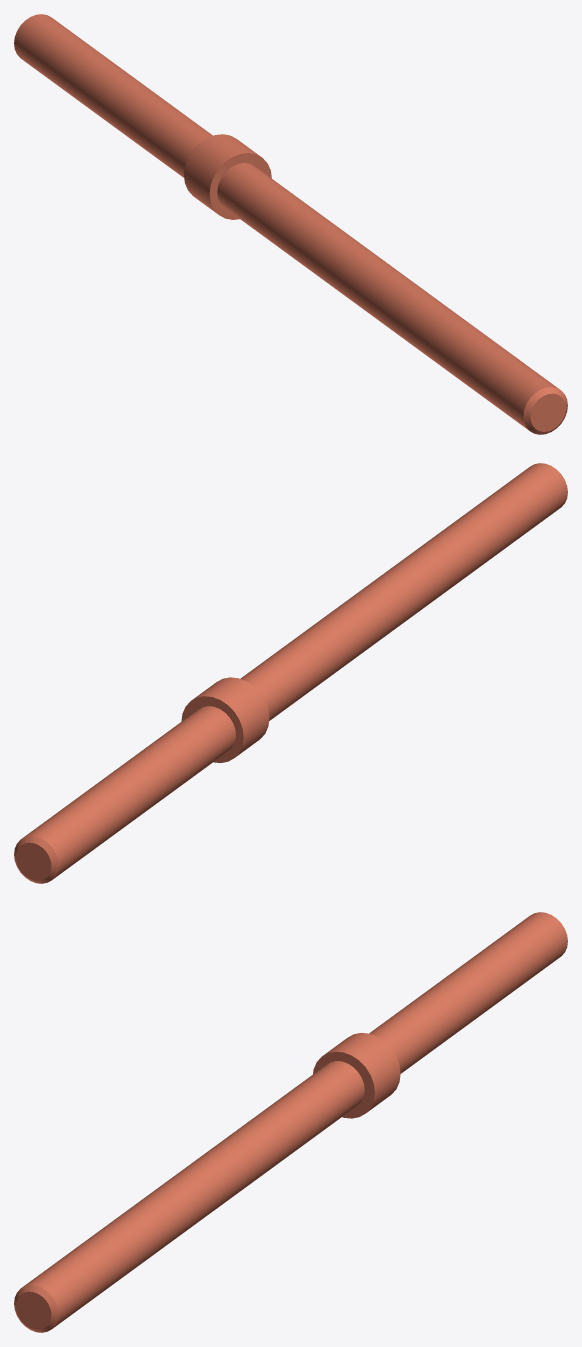
File: SHAFT.glb
3 renders of one model, top to bottom at view 1: azimuth 30°, elevation 25°; view 2: azimuth 150°, elevation 25°; view 3: azimuth 330°, elevation 25°, orthographic.
Parts seen in each view (by area): view 1: SHAFT; view 2: SHAFT; view 3: SHAFT.
Part boxes in pixels (x1,y1,x2,y2): SHAFT: (14, 14, 567, 434); SHAFT: (14, 463, 567, 883); SHAFT: (14, 912, 567, 1332).
Bounding box in the file's own units: 0.014 × 0.014 × 0.2.
